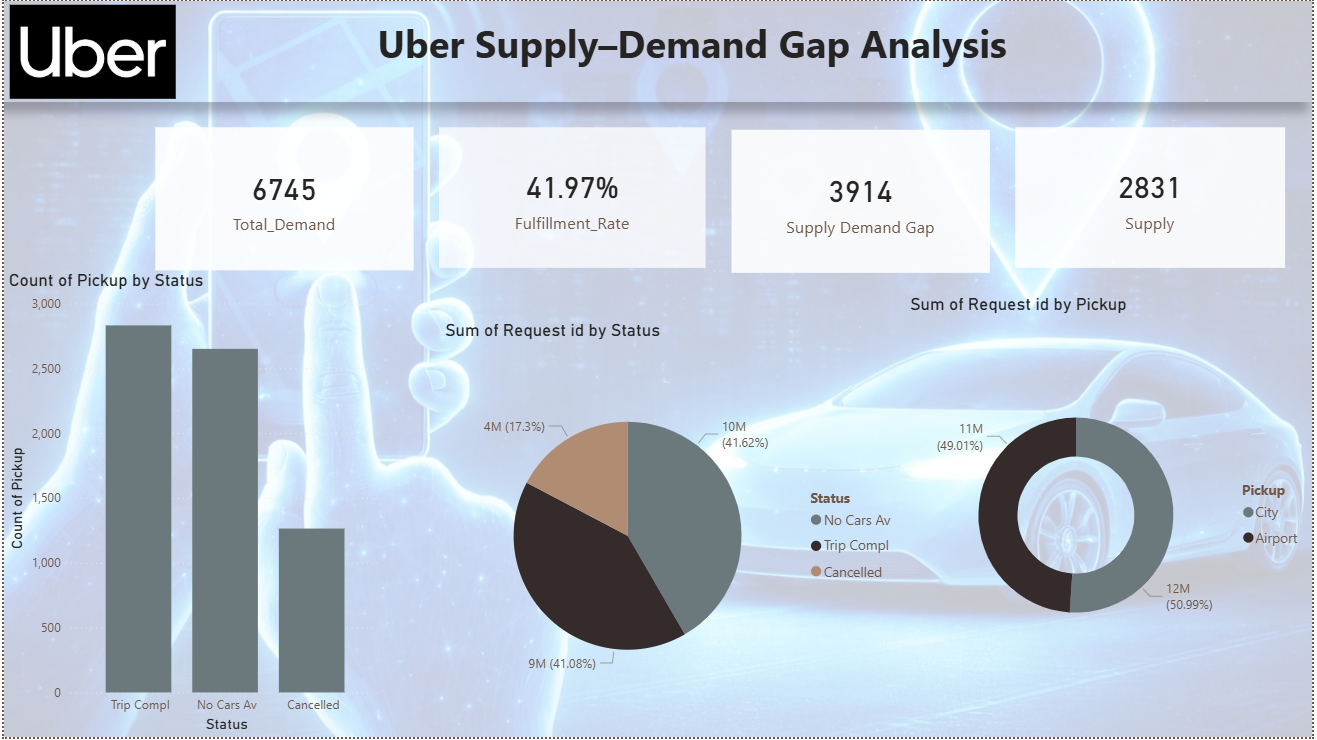

What the dashboard file says about the page in this screenshot:
{"tool":"powerbi","page":{"name":"Page 1","canvas":[1280,720],"ordinal":0},"visuals":[{"type":"textbox","box":[0,0,1280.3,99],"z":0},{"type":"textbox","box":[187.1,11,972.2,88],"z":1000},{"type":"card","fields":{"Values":["Uber_Supply_Demand.Total_Demand"]},"box":[148.3,123.6,252.7,140.1],"z":2000},{"type":"card","fields":{"Values":["Uber_Supply_Demand.Supply"]},"box":[988.8,123.6,263.7,137.3],"z":3000},{"type":"clusteredColumnChart","fields":{"Category":["Uber_Supply_Demand.Status"],"Y":["CountNonNull(Uber_Supply_Demand.Pickup)"]},"box":[0,263.3,375.7,457.5],"z":4000},{"type":"card","fields":{"Values":["Uber_Supply_Demand.Fulfillment_Rate"]},"box":[425.8,123.6,260.9,137.3],"z":5000},{"type":"pieChart","fields":{"Category":["Uber_Supply_Demand.Status"],"Y":["Sum(Uber_Supply_Demand.Request id)"]},"box":[426.8,311.8,455,403.8],"z":6000},{"type":"donutChart","fields":{"Category":["Uber_Supply_Demand.Pickup"],"Y":["Sum(Uber_Supply_Demand.Request id)"]},"box":[881.7,285.7,398.3,414.8],"z":7000},{"type":"textbox","box":[0,0,172.9,108.4],"z":8000},{"type":"image","box":[0,3.7,173.6,91.7],"z":9000},{"type":"card","fields":{"Values":["Uber_Supply_Demand.Supply Demand Gap"]},"box":[711.4,126.4,252.7,140.1],"z":9002}]}

Visuals, with their boxes in screenshot pixels (x1, y1, x2, y2), scaled from the page's 1280x720 canvas onto the 1317x740 screenshot:
textbox: bbox=(0, 0, 1316, 102)
textbox: bbox=(193, 11, 1193, 102)
card - Uber_Supply_Demand.Total_Demand: bbox=(153, 127, 413, 271)
card - Uber_Supply_Demand.Supply: bbox=(1017, 127, 1289, 268)
clusteredColumnChart - Uber_Supply_Demand.Status x CountNonNull(Uber_Supply_Demand.Pickup): bbox=(0, 271, 387, 739)
card - Uber_Supply_Demand.Fulfillment_Rate: bbox=(438, 127, 707, 268)
pieChart - Uber_Supply_Demand.Status x Sum(Uber_Supply_Demand.Request id): bbox=(439, 320, 907, 735)
donutChart - Uber_Supply_Demand.Pickup x Sum(Uber_Supply_Demand.Request id): bbox=(907, 294, 1316, 720)
textbox: bbox=(0, 0, 178, 111)
image: bbox=(0, 4, 179, 98)
card - Uber_Supply_Demand.Supply Demand Gap: bbox=(732, 130, 992, 274)
